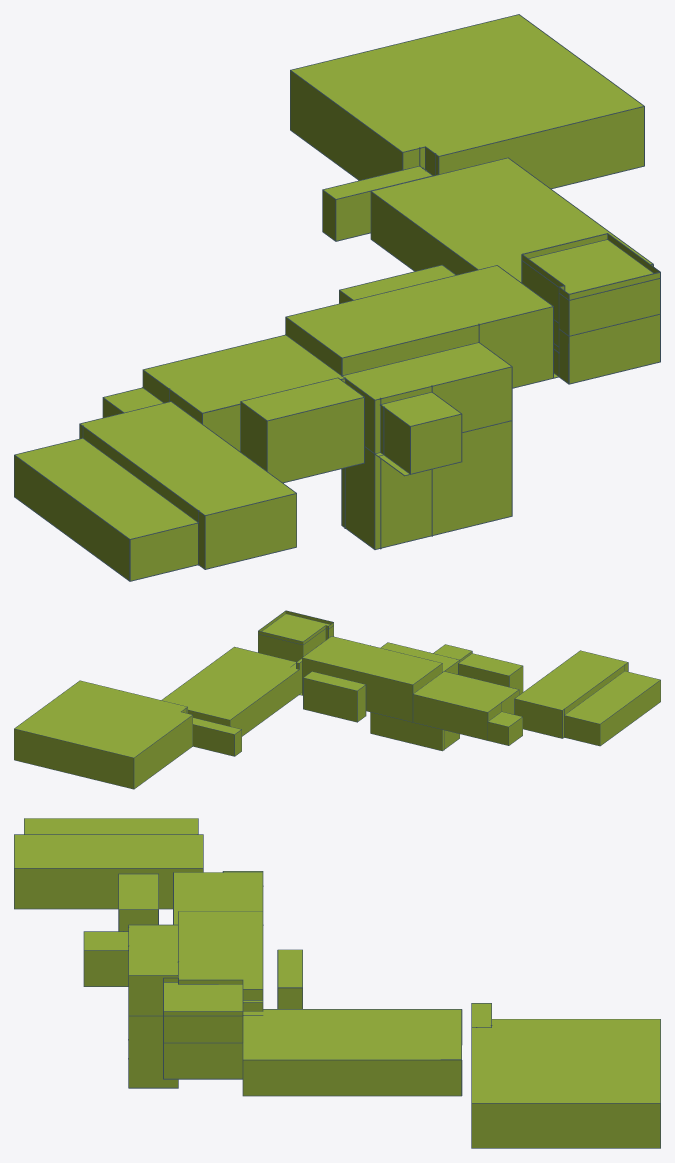
The picture shows the model from 3 angles, top to bottom: view 1: azimuth 30°, elevation 25°; view 2: azimuth 150°, elevation 25°; view 3: azimuth 270°, elevation 25°; orthographic projection. The views are drawn at different scales.
Visible parts, largest first — view 1: object 1, Bloom3D Lines; view 2: object 1, Bloom3D Lines; view 3: object 1, Bloom3D Lines.
Part boxes in pixels (x1,y1,x2,y2): object 1: (14, 15, 659, 580); Bloom3D Lines: (14, 14, 660, 581); object 1: (14, 611, 660, 788); Bloom3D Lines: (14, 610, 660, 789); object 1: (14, 818, 660, 1147); Bloom3D Lines: (14, 818, 660, 1148).
Bounding box in the file's own units: 71.08 × 15.62 × 65.08.
